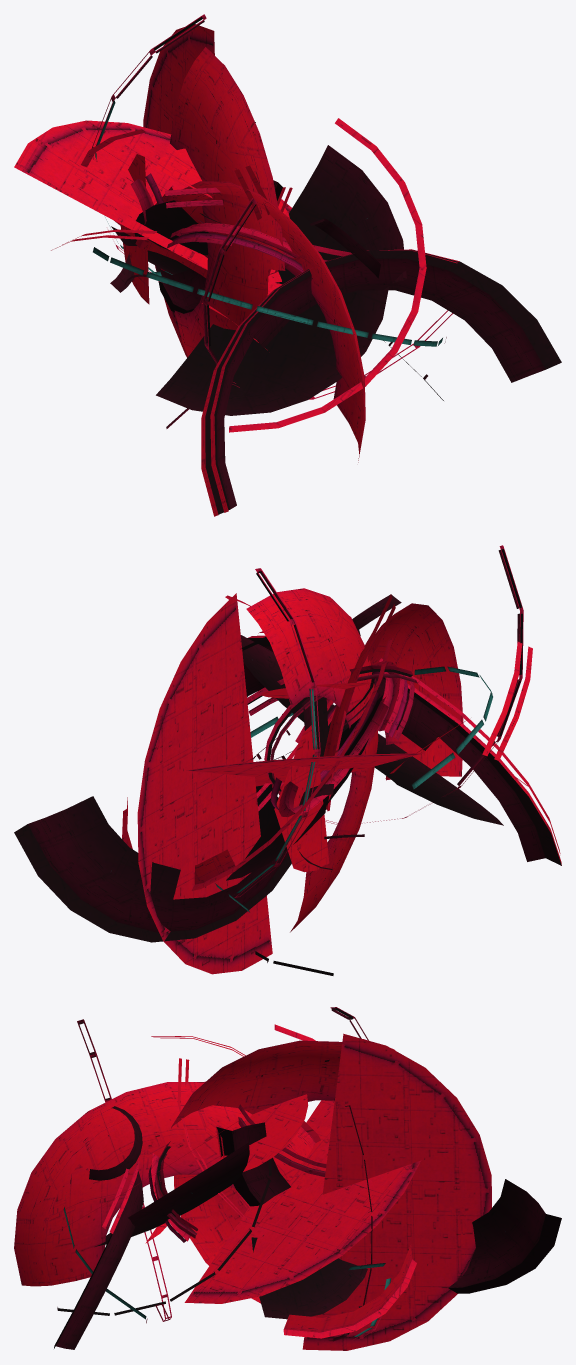
Rendered from MonsterB_Die7.obj.
3 renders of one model, top to bottom at view 1: azimuth 30°, elevation 25°; view 2: azimuth 150°, elevation 25°; view 3: azimuth 270°, elevation 25°, orthographic. The views are drawn at different scales.
Visible parts, largest first — view 1: Sphere001; view 2: Sphere001; view 3: Sphere001.
Part boxes in pixels (box(x1,y1,x2,y2)): Sphere001: box(14, 14, 561, 516); Sphere001: box(14, 545, 561, 975); Sphere001: box(14, 1007, 561, 1350).
Size of the model in its own units: 231 by 217 by 308.
1 material, 1 textured.
